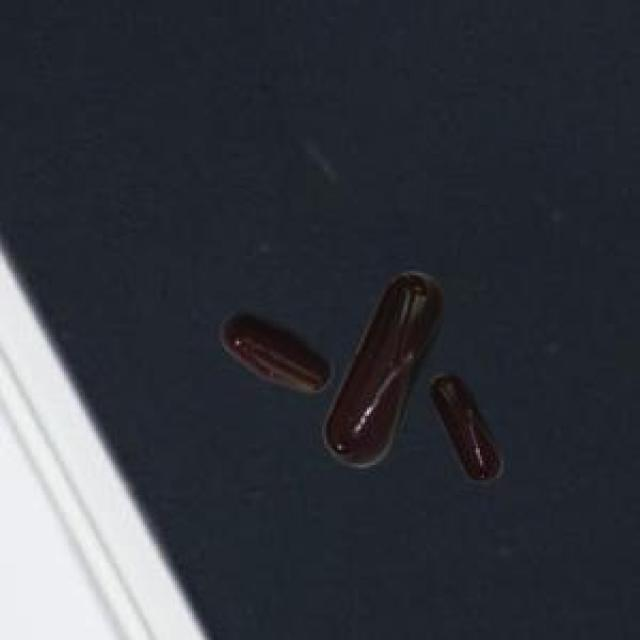DayZinc: (198, 260, 519, 497)
